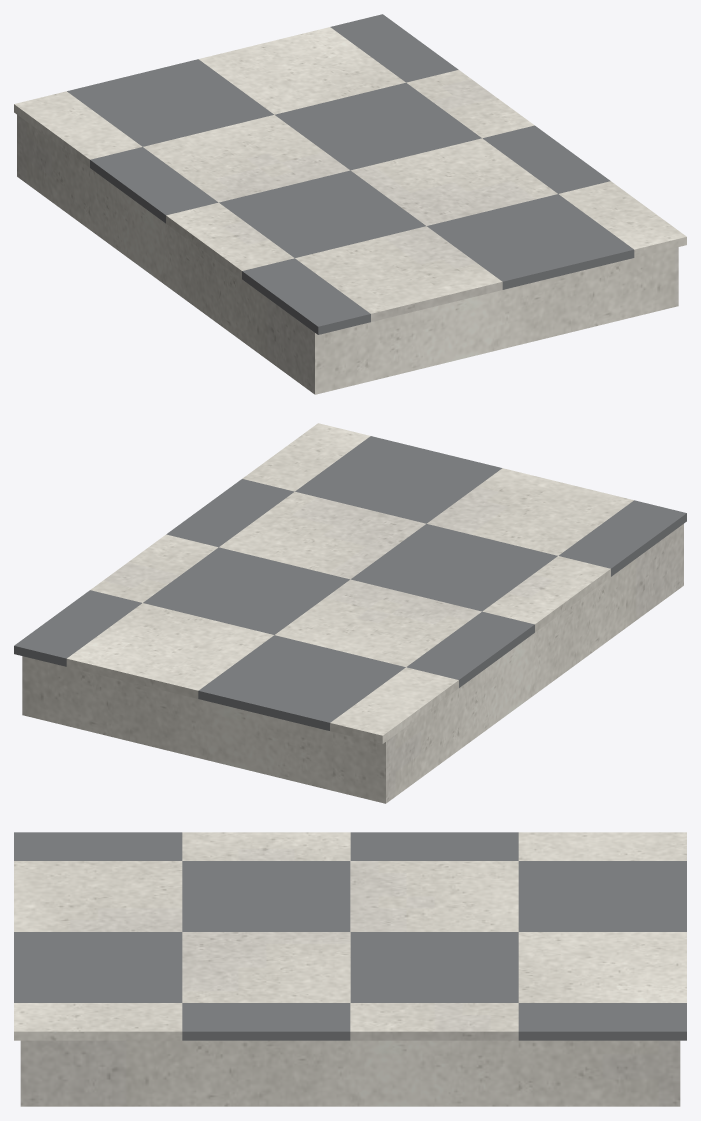
File: floor_marble_u_e1000_h5.glb
The picture shows the model from 3 angles, top to bottom: view 1: azimuth 30°, elevation 25°; view 2: azimuth 150°, elevation 25°; view 3: azimuth 270°, elevation 25°; orthographic projection. The views are drawn at different scales.
Visible parts, largest first — view 1: floor_marble_u_e1000_h5_slate, floor_marble_u_e1000_h5_marble, floor_marble_u_e1000_h5_plaster; view 2: floor_marble_u_e1000_h5_marble, floor_marble_u_e1000_h5_slate, floor_marble_u_e1000_h5_plaster; view 3: floor_marble_u_e1000_h5_marble, floor_marble_u_e1000_h5_slate, floor_marble_u_e1000_h5_plaster.
Part boxes in pixels (x1,y1,x2,y2): floor_marble_u_e1000_h5_slate: (67, 14, 634, 334); floor_marble_u_e1000_h5_marble: (14, 27, 686, 321); floor_marble_u_e1000_h5_plaster: (17, 115, 678, 394); floor_marble_u_e1000_h5_marble: (66, 423, 633, 743); floor_marble_u_e1000_h5_slate: (14, 436, 686, 730); floor_marble_u_e1000_h5_plaster: (22, 524, 683, 803); floor_marble_u_e1000_h5_marble: (14, 832, 686, 1040); floor_marble_u_e1000_h5_slate: (14, 832, 686, 1040); floor_marble_u_e1000_h5_plaster: (20, 1040, 680, 1106).
Size of the model in its own units: 1.4 by 0.255 by 2.
Materials: 3 (2 with a texture image).
